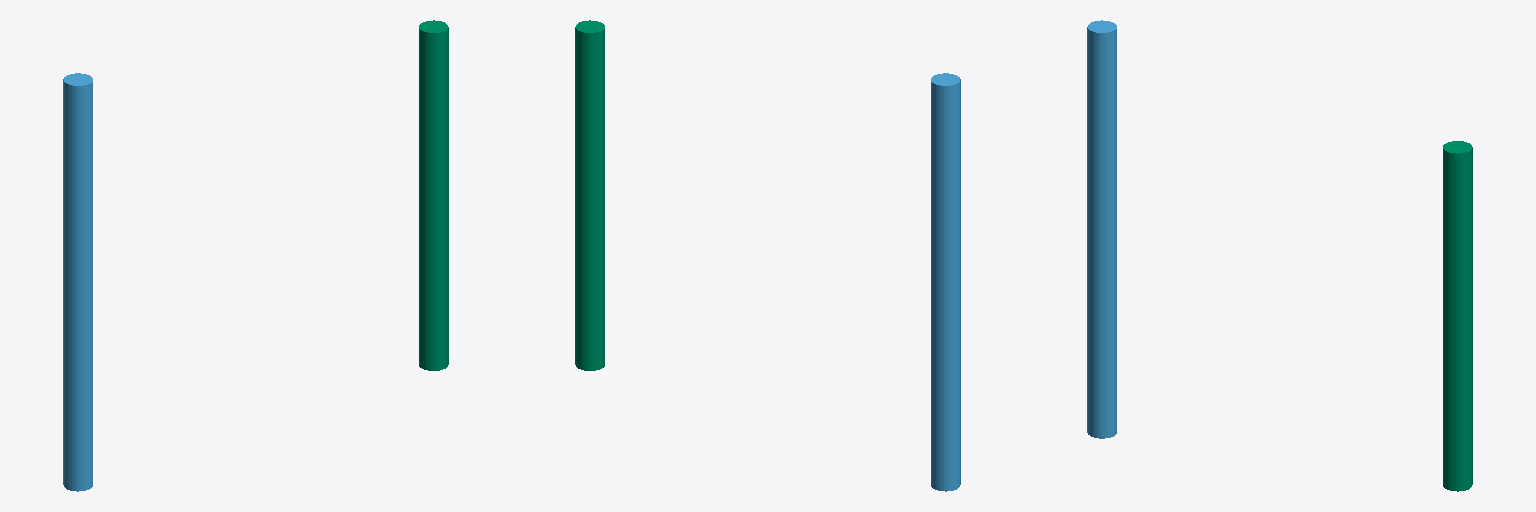
robot.urdf — reBot_arm_v0_min:
<?xml version="1.0"?>
<!-- reBot_arm_v0_min: minimal 2-revolute free-floating arm. base_link = frame M
     (arm mounting-face = reBot URDF base); attach to servicer via T_SM. Rods along +X,
     shoulder+elbow revolute about Y (swing in X-Z plane). Simplified v0 for sim_03. -->
<robot name="reBot_arm_v0_min">
  <link name="M_base_link">
    <inertial><origin xyz="0 0 0"/><mass value="0.3"/>
      <inertia ixx="0.001" ixy="0" ixz="0" iyy="0.001" iyz="0" izz="0.001"/></inertial>
  </link>
  <joint name="shoulder" type="revolute">
    <parent link="M_base_link"/><child link="link1"/>
    <origin xyz="0 0 0" rpy="0 0 0"/><axis xyz="0 1 0"/>
    <limit lower="-2.6" upper="2.6" effort="10" velocity="1.5"/>
  </joint>
  <link name="link1">
    <visual><origin xyz="0.15 0 0"/><geometry><cylinder radius="0.01" length="0.3"/></geometry></visual>
    <inertial><origin xyz="0.15 0 0"/><mass value="0.8"/>
      <inertia ixx="4e-05" ixy="0" ixz="0" iyy="0.00602" iyz="0" izz="0.00602"/></inertial>
  </link>
  <joint name="elbow" type="revolute">
    <parent link="link1"/><child link="link2"/>
    <origin xyz="0.3 0 0" rpy="0 0 0"/><axis xyz="0 1 0"/>
    <limit lower="-2.6" upper="2.6" effort="10" velocity="1.5"/>
  </joint>
  <link name="link2">
    <visual><origin xyz="0.125 0 0"/><geometry><cylinder radius="0.01" length="0.25"/></geometry></visual>
    <inertial><origin xyz="0.125 0 0"/><mass value="0.5"/>
      <inertia ixx="2.5e-05" ixy="0" ixz="0" iyy="0.00261667" iyz="0" izz="0.00261667"/></inertial>
  </link>
  <joint name="ee" type="fixed"><parent link="link2"/><child link="ee_link"/><origin xyz="0.25 0 0"/></joint>
  <link name="ee_link"/>
</robot>

--- Render facts (derived) ---
The picture shows the robot from 3 angles, left to right: view 1: azimuth 30°, elevation 25°; view 2: azimuth 150°, elevation 25°; view 3: azimuth 330°, elevation 25°; orthographic projection.
Model reBot_arm_v0_min with 4 links and 3 joints (2 revolute, 1 fixed), rooted at M_base_link, posed every joint at zero.
Visible links, largest first — view 1: link1, link2; view 2: link1, link2; view 3: link1, link2.
Link boxes in pixels (box(x1,y1,x2,y2)): link1: box(63, 73, 92, 491); link2: box(419, 20, 448, 370); link1: box(931, 73, 960, 491); link2: box(575, 20, 604, 370); link1: box(1087, 20, 1116, 438); link2: box(1443, 141, 1472, 491).
Bounding box of the posed robot: 0.295 × 0.02 × 0.3 m (x, y, z).
Geometry: primitives only (box / cylinder / sphere), no mesh files.
